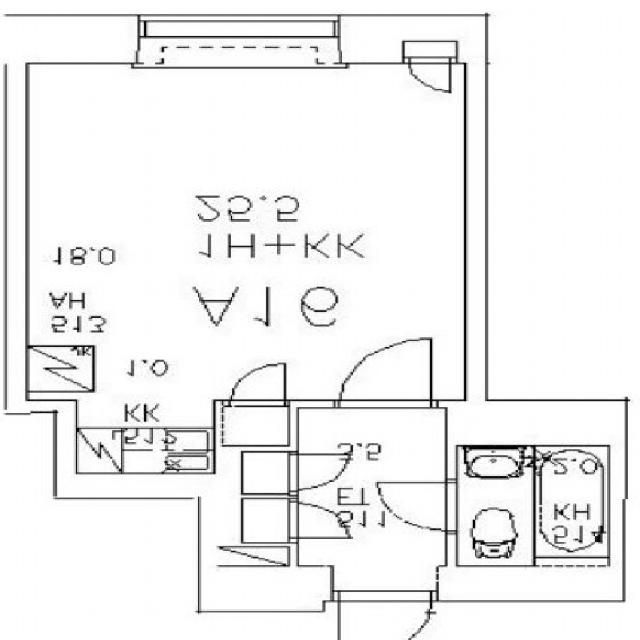door: (340, 338, 431, 408), (376, 483, 458, 531), (289, 503, 352, 539), (289, 455, 352, 491), (232, 364, 286, 406), (410, 57, 451, 91)
